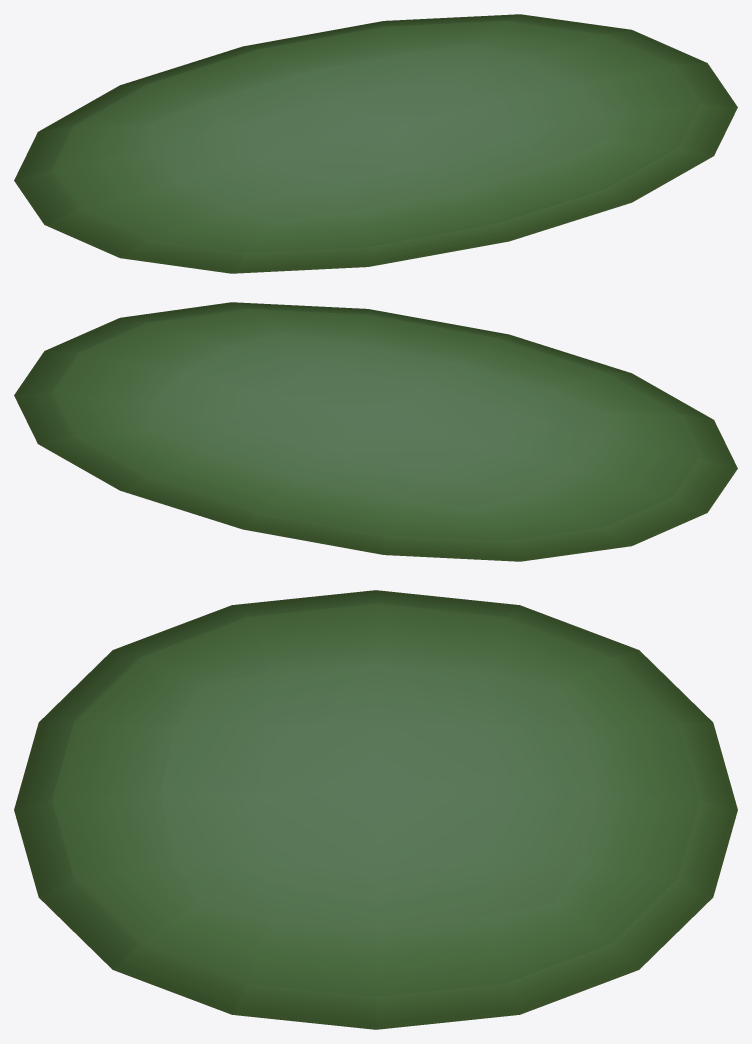
Rendered from Map3_San.fbx.
3 renders of one model, top to bottom at view 1: azimuth 30°, elevation 25°; view 2: azimuth 150°, elevation 25°; view 3: azimuth 270°, elevation 25°, orthographic. The views are drawn at different scales.
Visible parts, largest first — view 1: Plane; view 2: Plane; view 3: Plane.
Boxes of the visible parts, bbox=[...] form: Plane: bbox=[14, 14, 737, 273]; Plane: bbox=[14, 302, 737, 561]; Plane: bbox=[14, 590, 737, 1029].
Size of the model in its own units: 2362 by 46.58 by 1644.
Materials: 1 (1 with a texture image).
